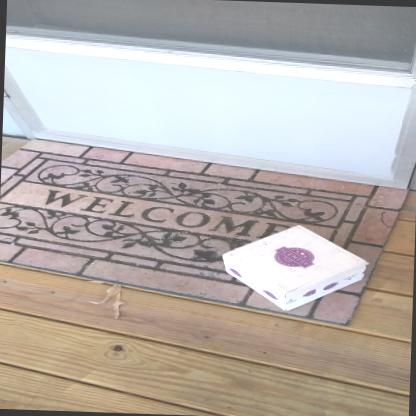box: (220, 222, 370, 313)
